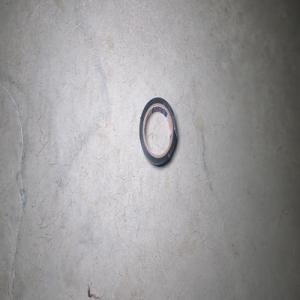Tape: (139, 97, 177, 166)
